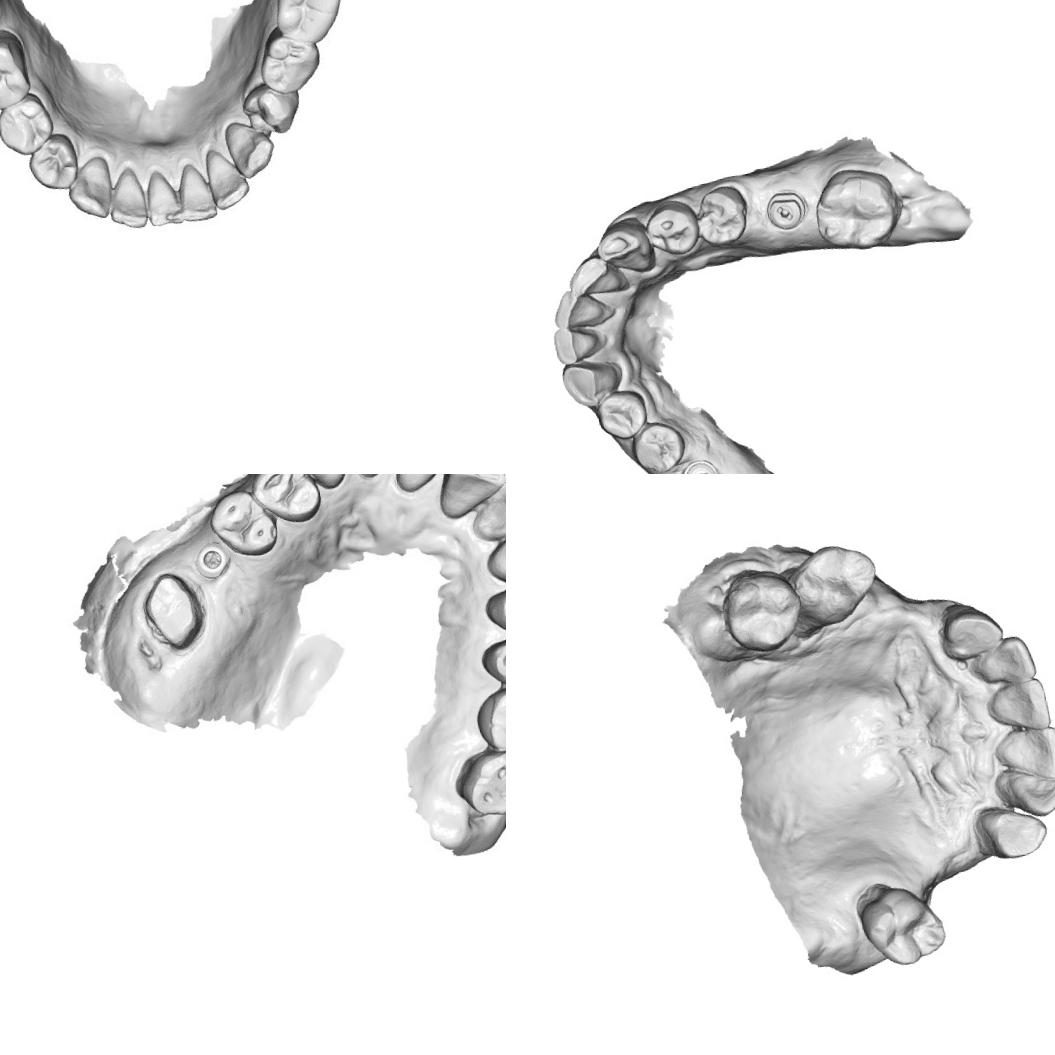canine: (974, 798, 1052, 864), (934, 596, 1008, 665), (61, 151, 120, 226), (591, 214, 656, 282), (558, 353, 631, 413), (221, 116, 278, 181), (482, 525, 506, 591), (293, 474, 357, 492)
crown: (134, 567, 208, 659)
implant: (192, 540, 236, 584)
implant_minus: (762, 187, 808, 236), (677, 455, 726, 474)
incisor: (982, 676, 1054, 737), (992, 723, 1055, 788), (968, 632, 1038, 690), (992, 760, 1055, 824), (428, 474, 506, 519), (103, 161, 151, 234), (561, 253, 626, 302), (548, 283, 612, 332), (202, 148, 249, 212), (550, 320, 607, 370), (173, 162, 217, 226), (466, 477, 506, 546), (142, 169, 182, 230), (385, 474, 465, 492)
molar: (777, 537, 886, 641), (852, 872, 951, 974), (808, 160, 908, 258), (714, 560, 810, 659), (448, 741, 506, 825), (255, 27, 323, 95), (269, 0, 353, 48), (469, 678, 506, 759), (0, 37, 31, 111)
premolar: (205, 482, 286, 566), (688, 181, 754, 251), (234, 75, 302, 140), (246, 474, 323, 530), (640, 196, 704, 262), (625, 415, 693, 474), (591, 385, 652, 445), (0, 94, 53, 154), (29, 134, 77, 190), (478, 578, 506, 648), (478, 629, 506, 698)
